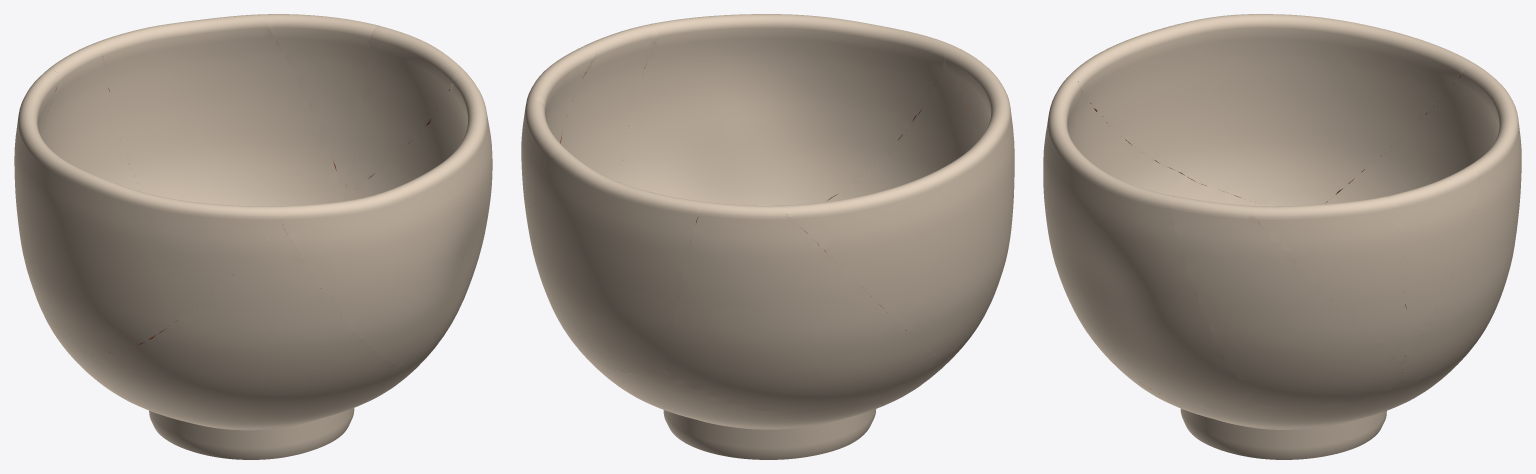
File: Z2_drop.glb
3 renders of one model, left to right at view 1: azimuth 30°, elevation 25°; view 2: azimuth 150°, elevation 25°; view 3: azimuth 270°, elevation 25°, orthographic.
Visible parts, largest first — view 1: shard_00, shard_07, shard_04, shard_05, shard_02, shard_01, shard_06, shard_03; view 2: shard_05, shard_06, shard_07, shard_04, shard_00, shard_03, shard_02, shard_01; view 3: shard_07, shard_05, shard_03, shard_00, shard_02, shard_04, shard_06, shard_01.
Part boxes in pixels (x1,y1,x2,y2): shard_00: (61, 226, 419, 459); shard_07: (14, 70, 285, 355); shard_04: (93, 14, 343, 206); shard_05: (282, 111, 492, 369); shard_02: (343, 25, 467, 197); shard_01: (266, 14, 378, 194); shard_06: (36, 43, 139, 343); shard_03: (342, 74, 489, 201); shard_05: (620, 14, 955, 205); shard_06: (666, 202, 938, 413); shard_07: (779, 46, 1014, 359); shard_04: (532, 150, 705, 373); shard_00: (577, 61, 993, 459); shard_03: (560, 24, 657, 182); shard_02: (521, 45, 595, 142); shard_01: (521, 99, 568, 260); shard_07: (1066, 14, 1474, 206); shard_05: (1043, 78, 1260, 409); shard_03: (1170, 196, 1403, 408); shard_00: (1071, 90, 1471, 459); shard_02: (1249, 196, 1406, 362); shard_04: (1401, 93, 1521, 380); shard_06: (1324, 64, 1510, 204); shard_01: (1387, 166, 1477, 359).
Bounding box in the file's own units: 0.1228 × 0.0871 × 0.122.
